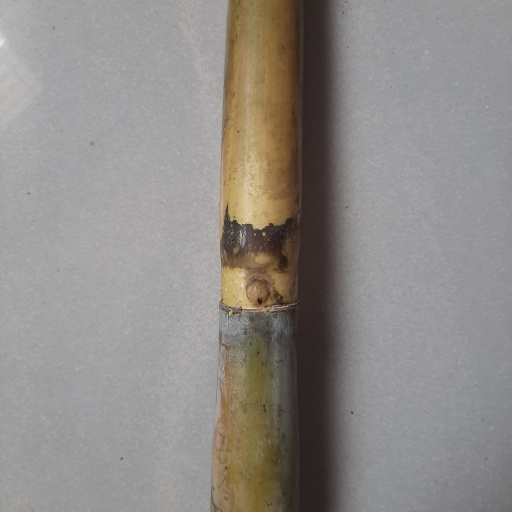Bud: (244, 279, 274, 308)
